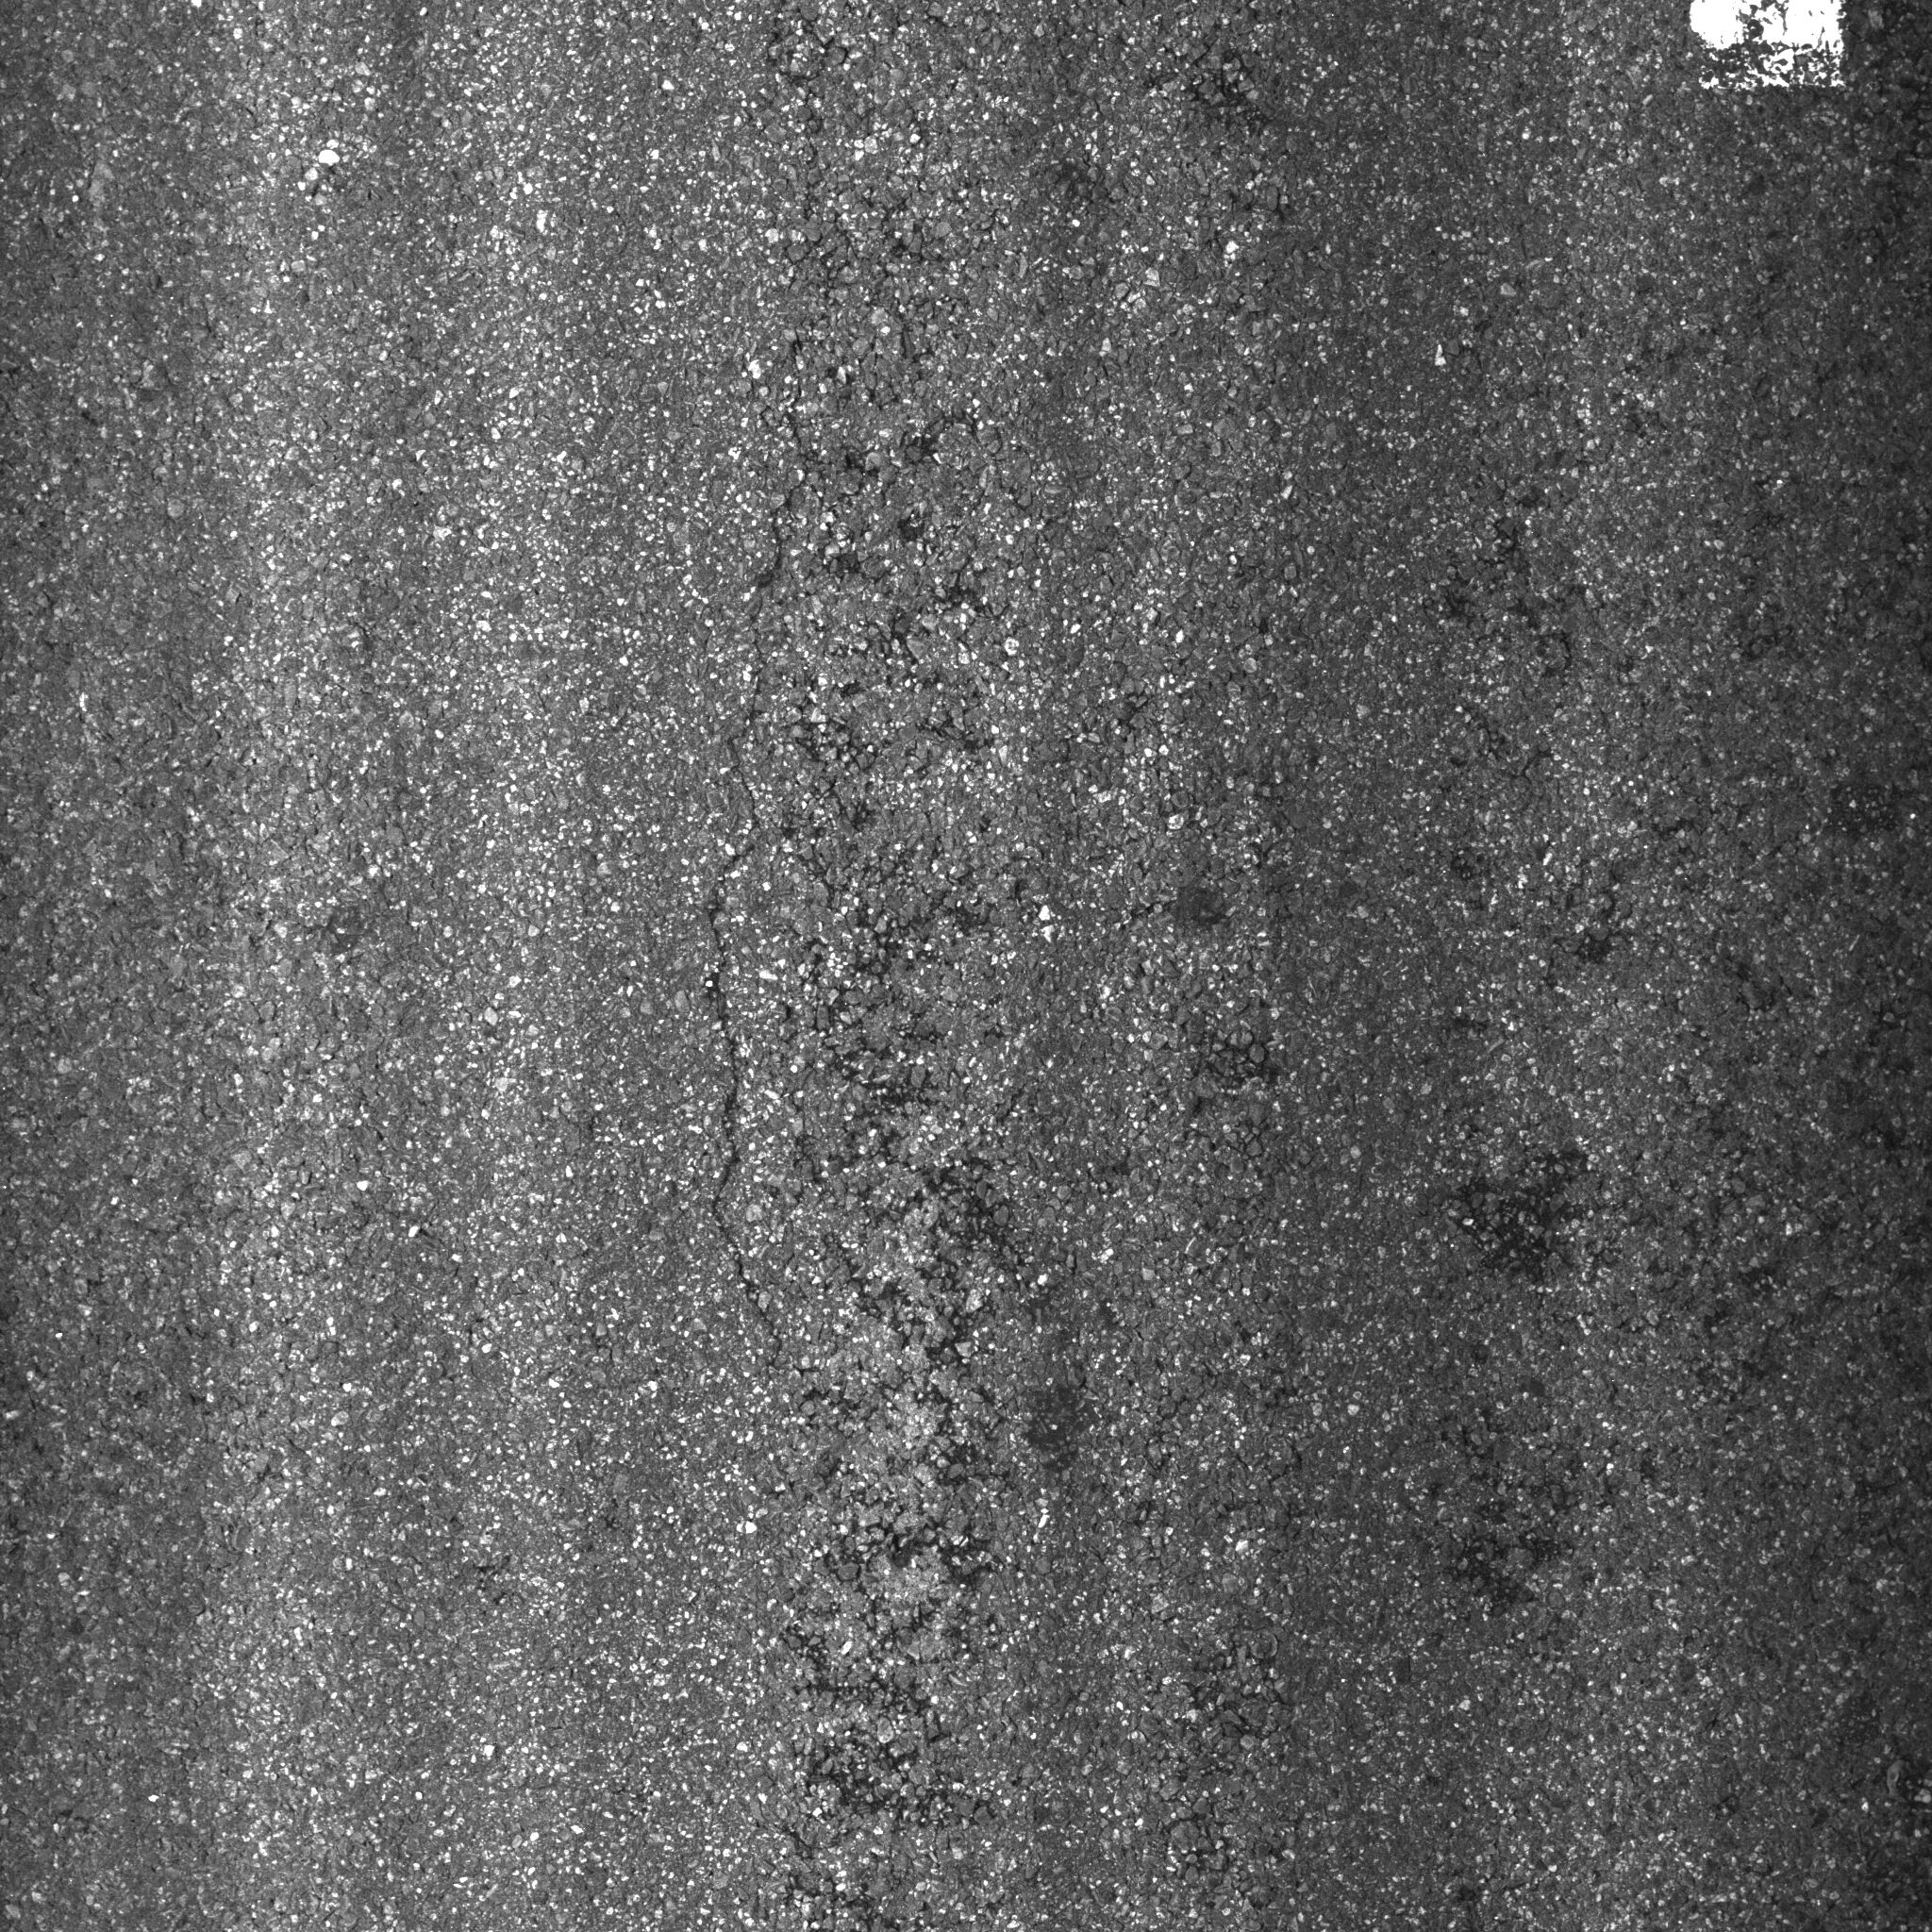longitudinal: (708, 4, 1058, 1881)
